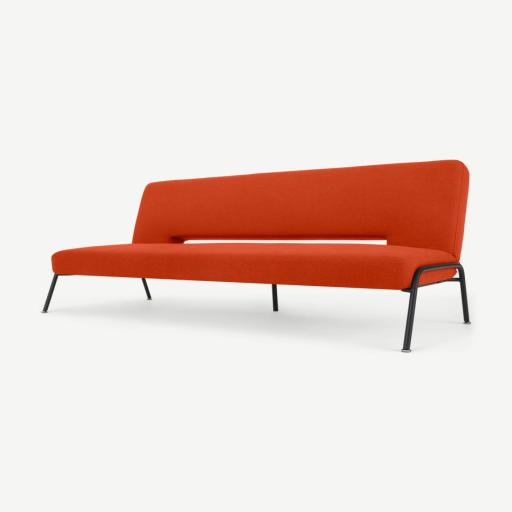back_cushion: (132, 160, 468, 259)
legs: (401, 263, 470, 352), (42, 274, 59, 312), (142, 278, 152, 300), (272, 284, 278, 311)
one-seater: (0, 0, 511, 512)
seat_cushion: (53, 243, 455, 289)
